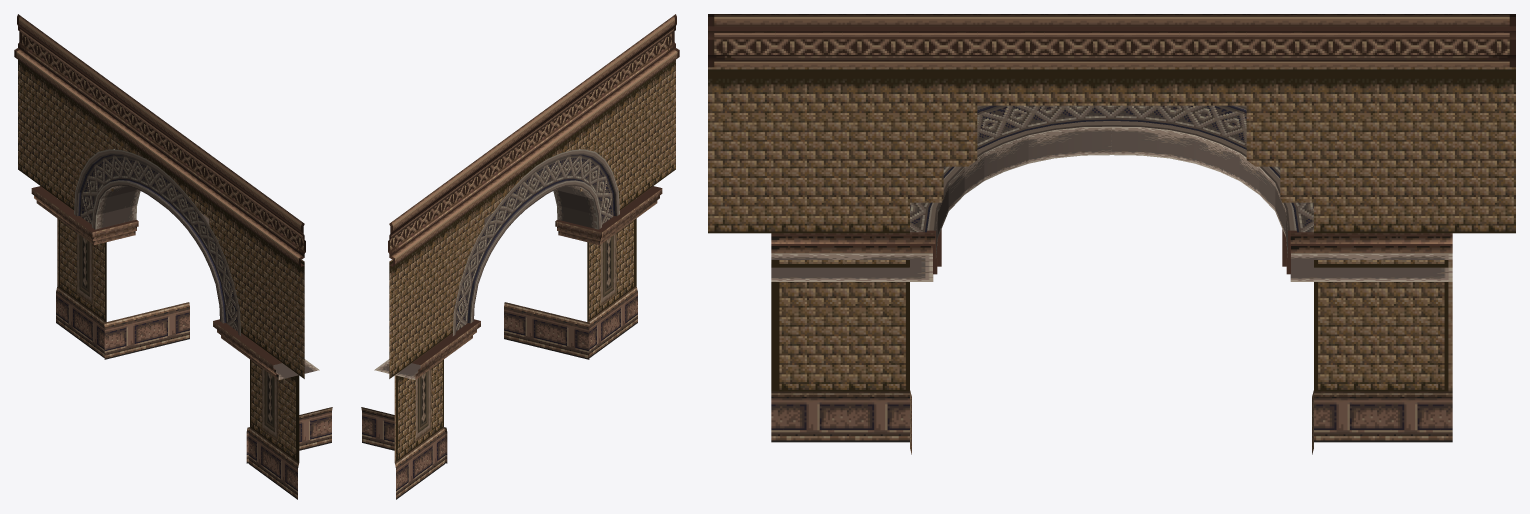
Rendered from ObjMD_Desert_Palace_Room_King_A.FBX.
3 renders of one model, left to right at view 1: azimuth 30°, elevation 25°; view 2: azimuth 150°, elevation 25°; view 3: azimuth 270°, elevation 25°, orthographic. The views are drawn at different scales.
Visible parts, largest first — view 1: ObjMD_Desert_Palace_Room_King_A; view 2: ObjMD_Desert_Palace_Room_King_A; view 3: ObjMD_Desert_Palace_Room_King_A.
Part boxes in pixels (box(x1,y1,x2,y2)): ObjMD_Desert_Palace_Room_King_A: box(14, 14, 332, 499); ObjMD_Desert_Palace_Room_King_A: box(361, 14, 679, 499); ObjMD_Desert_Palace_Room_King_A: box(708, 14, 1515, 454).
Size of the model in its own units: 525 by 1369 by 2400.
